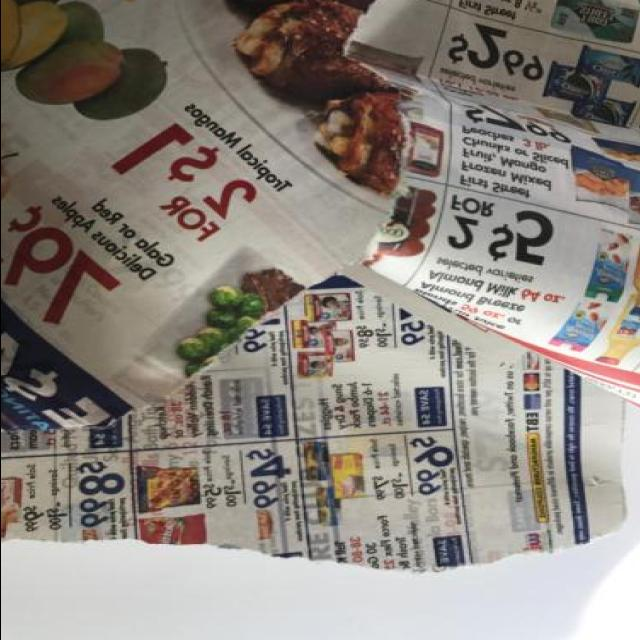kertas: (0, 0, 640, 577)
